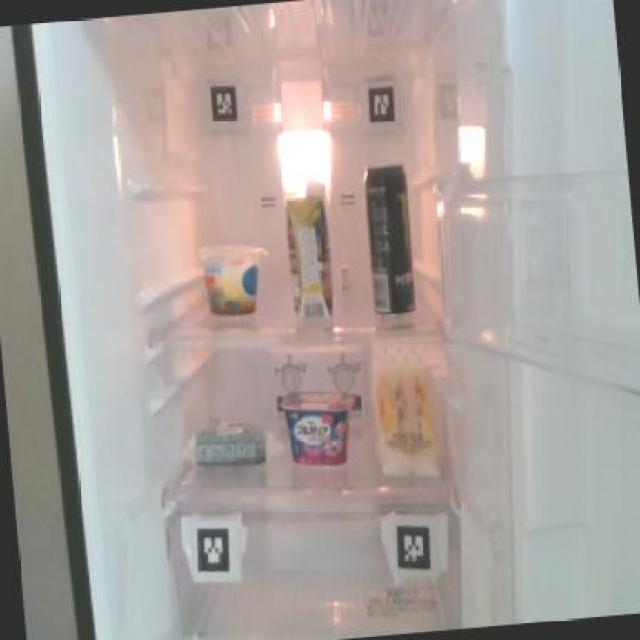energy_drink: (359, 157, 419, 318)
pudding: (196, 236, 267, 319)
rice_ball: (187, 410, 271, 476)
sandwich: (363, 337, 442, 485)
smoothie: (278, 176, 337, 324)
yogurt: (278, 385, 358, 472)
